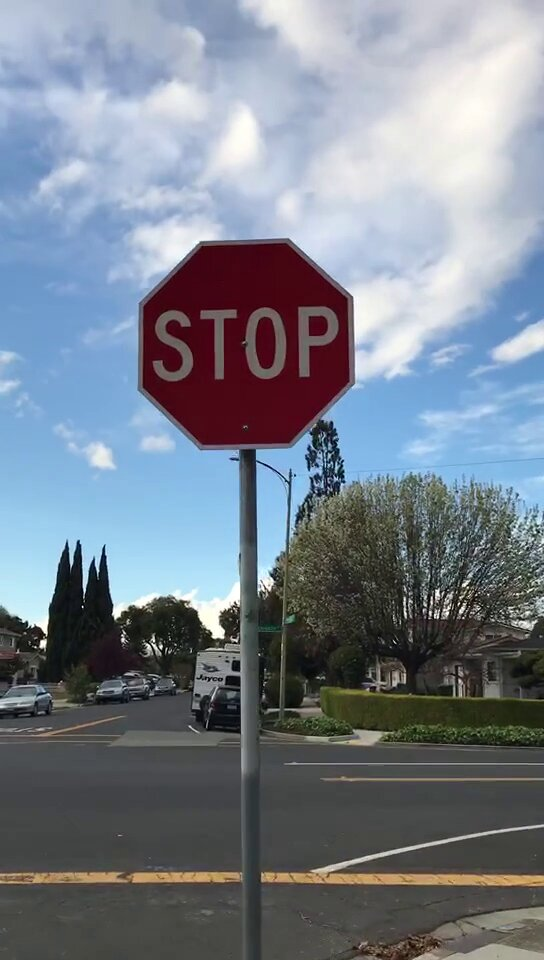stop_sign: (140, 244, 356, 448)
